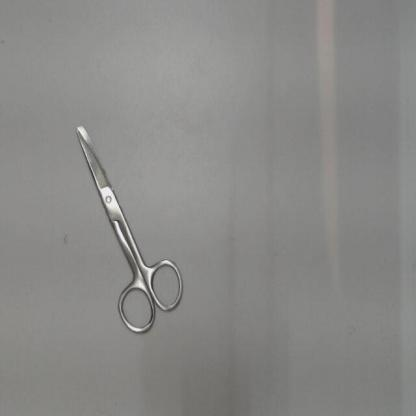Dressing Scissors: (65, 109, 191, 344)
